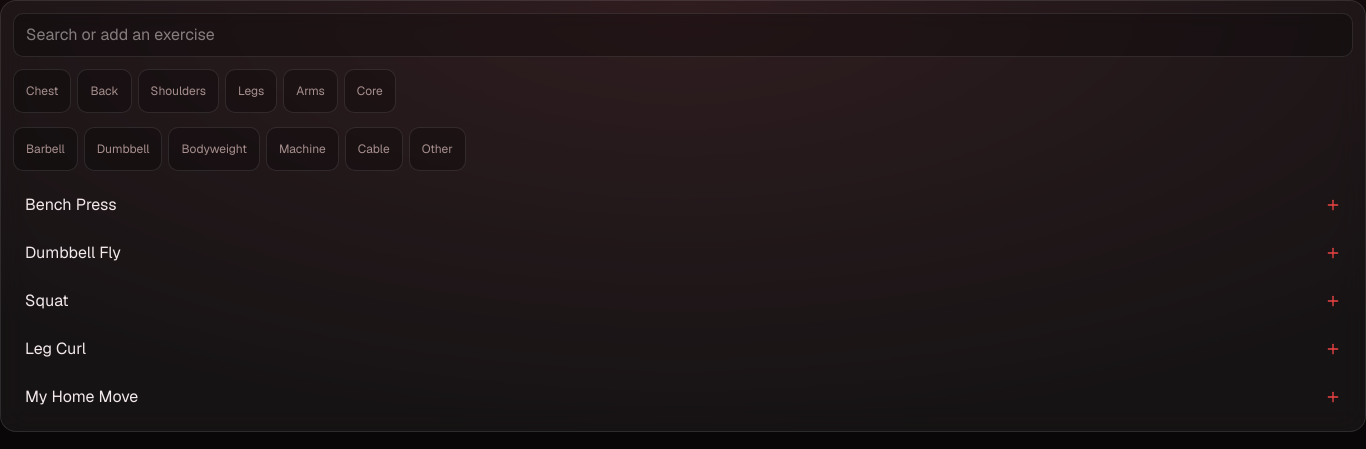
Test case: ExercisePicker filters › still offers to create an unmatched name while a filter is active
The image size is (1366, 449).
Click the button "Legs" at [251, 91], box [225, 69, 277, 113]
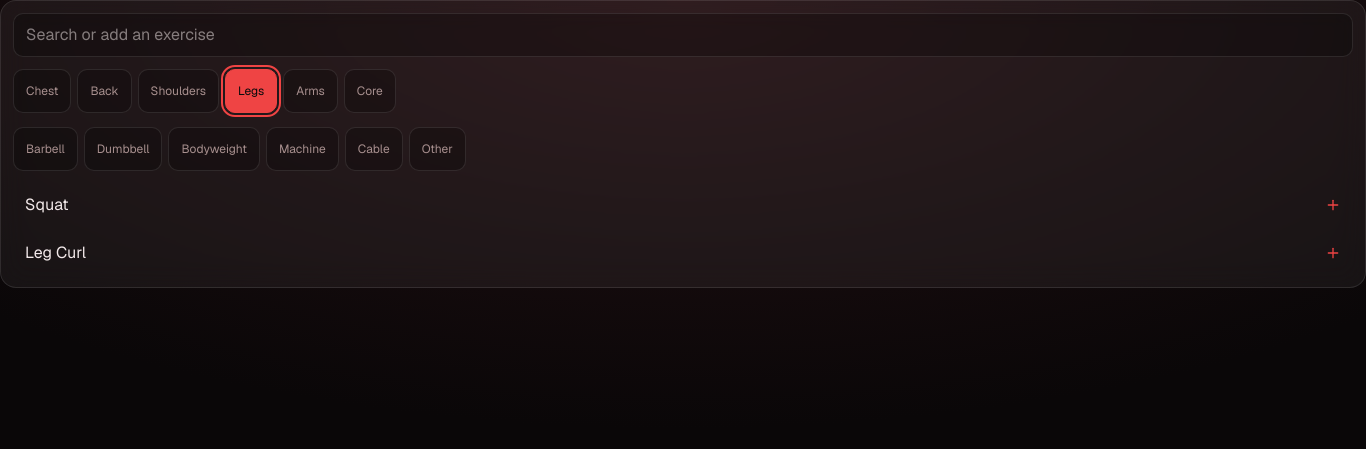
Type "Sled Push" into the field with placeholder "Search or add an exercise" at [683, 35], box [13, 13, 1353, 57]
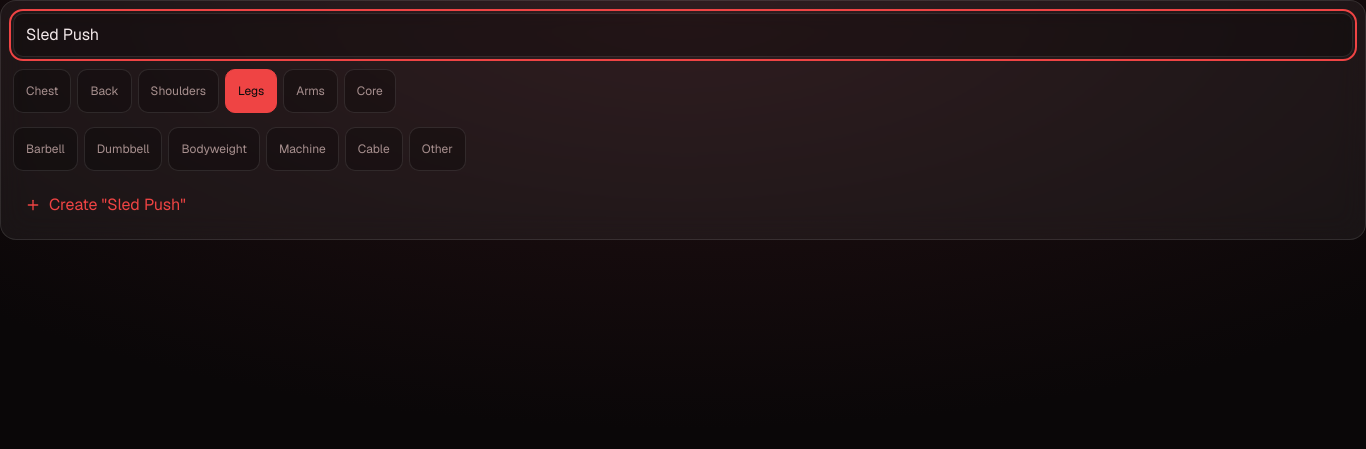
Check: the button "Create \"Sled Push\"" is shown, box [13, 183, 1353, 227]
